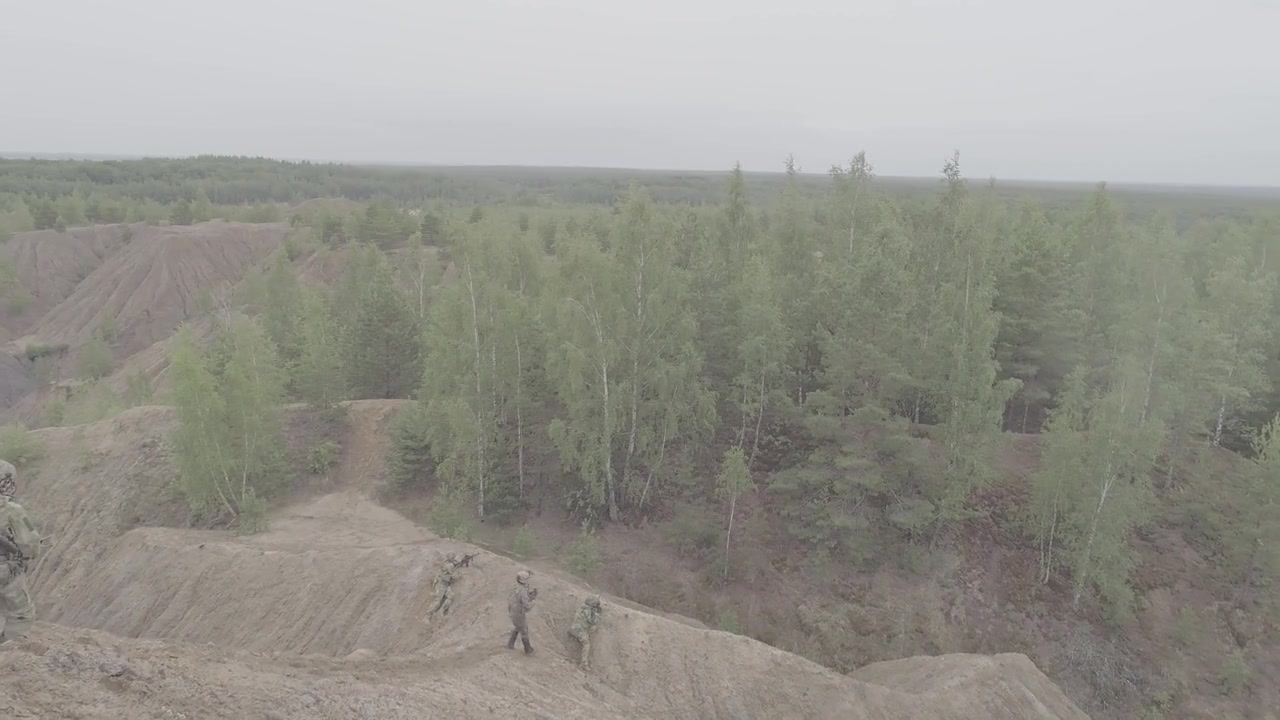person: (4, 444, 38, 646)
